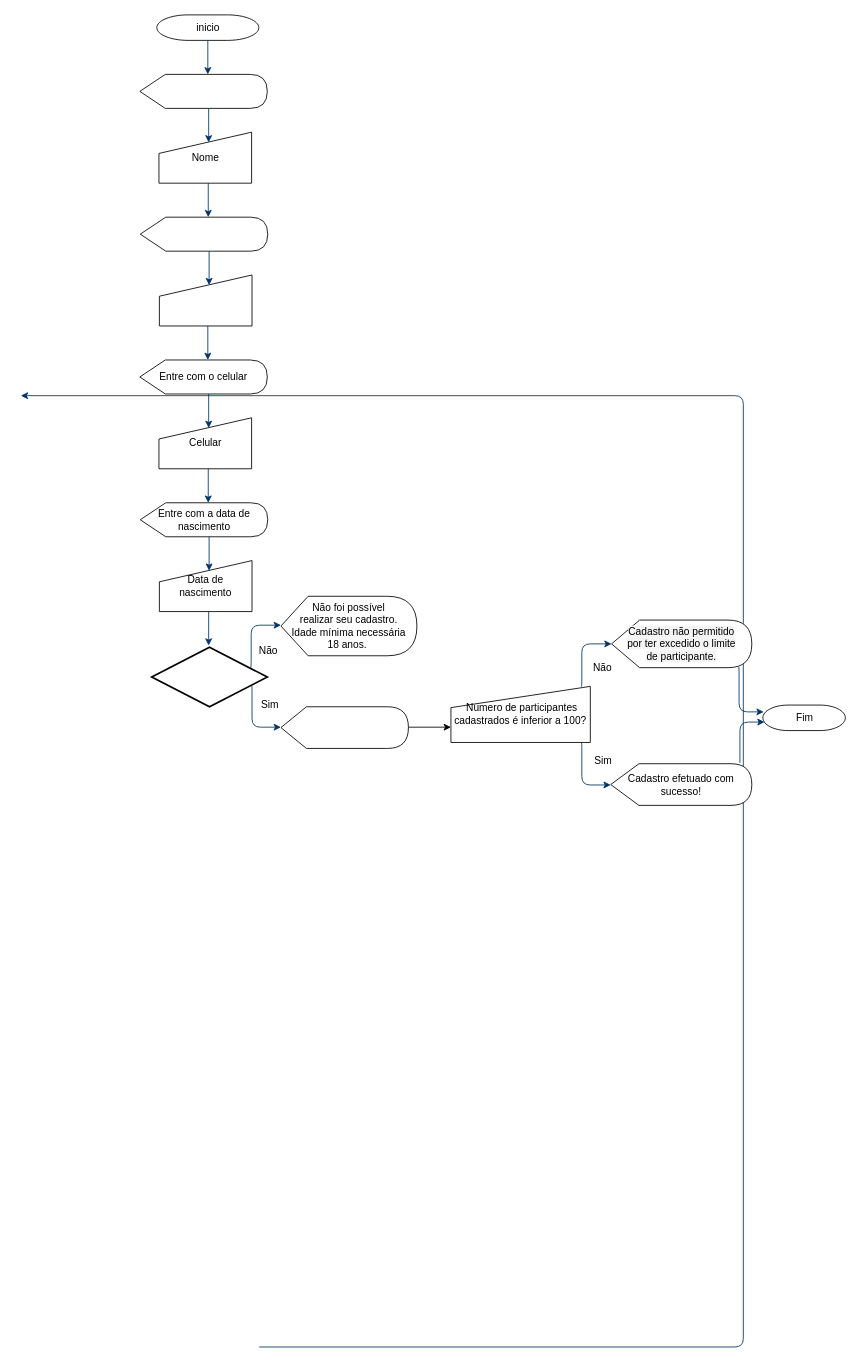
Some shapes in this 860 by 1369 pixel diagram are drawn without their labels. Here are the shapes that lost their labels. From the top down, the centre of each, then its label:
At (x=203, y=91): "Entre com o nome".
At (x=203, y=233): "Entre com o e-mail".
At (x=205, y=300): "E-mail".
At (x=209, y=676): "Tem mais de 18 anos?".
At (x=344, y=727): "Cadastro permitido".
